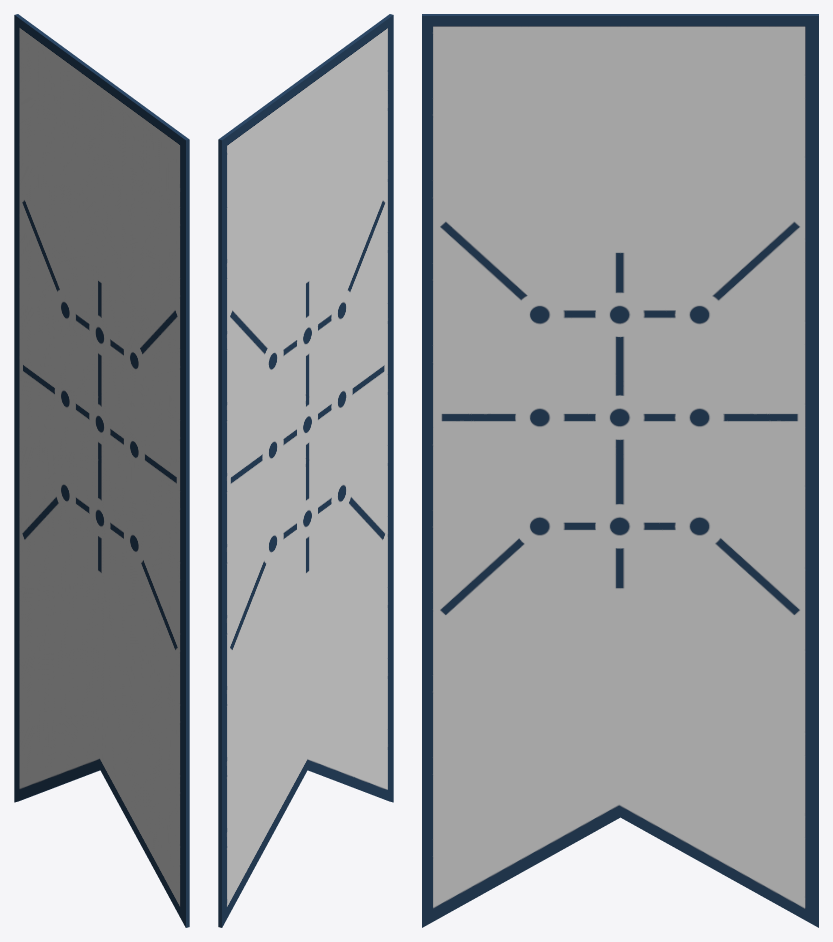
Rendered from banner-spider.fbx.
3 views of the same model, side by side, from view 1: azimuth 30°, elevation 25°; view 2: azimuth 150°, elevation 25°; view 3: azimuth 270°, elevation 25° (orthographic). The views are drawn at different scales.
Parts seen in each view (by area): view 1: pPlane7; view 2: pPlane7; view 3: pPlane7.
Boxes of the visible parts, <box> form: pPlane7: <box>14,14,189,927</box>; pPlane7: <box>218,14,393,927</box>; pPlane7: <box>422,14,818,927</box>.
Size of the model in its own units: 0.1 by 20.55 by 8.1.
